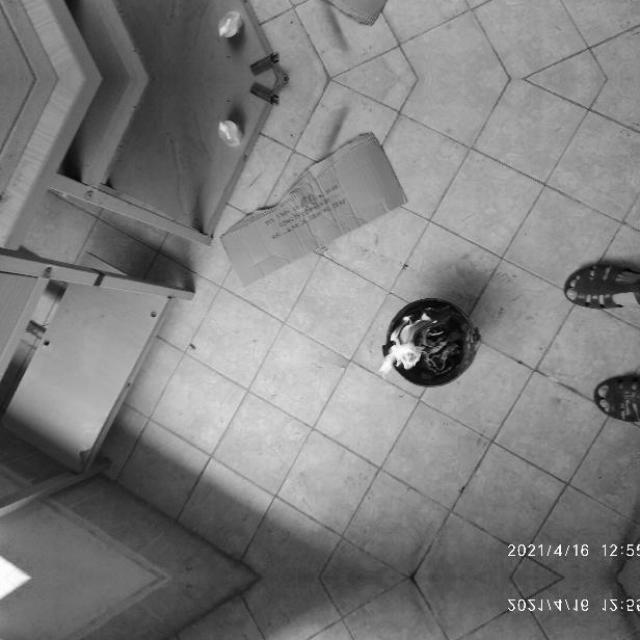smoke: (378, 310, 437, 380)
